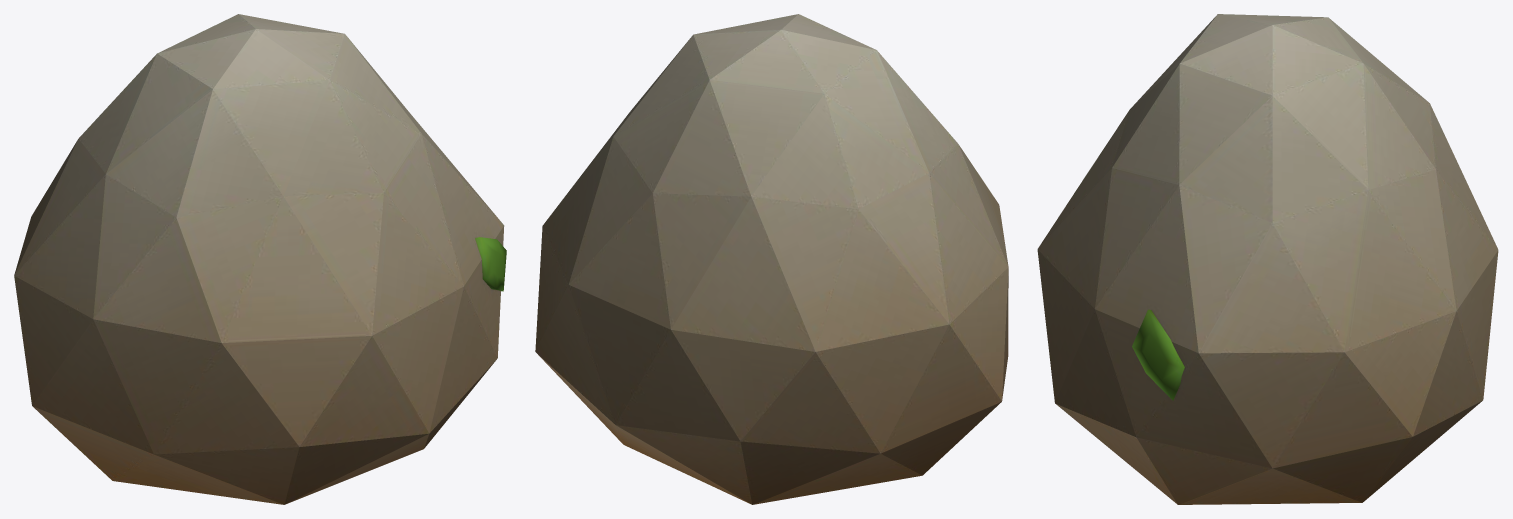
File: rock_1_low.glb
The picture shows the model from 3 angles, left to right: view 1: azimuth 30°, elevation 25°; view 2: azimuth 150°, elevation 25°; view 3: azimuth 270°, elevation 25°; orthographic projection. The views are drawn at different scales.
Parts seen in each view (by area): view 1: rock_1; view 2: rock_1; view 3: rock_1.
Boxes of the visible parts, left/top/right/bottom form: rock_1: left=14, top=14, right=506, bottom=504; rock_1: left=535, top=14, right=1008, bottom=504; rock_1: left=1037, top=14, right=1498, bottom=504.
Size of the model in its own units: 0.6016 by 0.5857 by 0.5451.
Materials: 1 (1 with a texture image).
